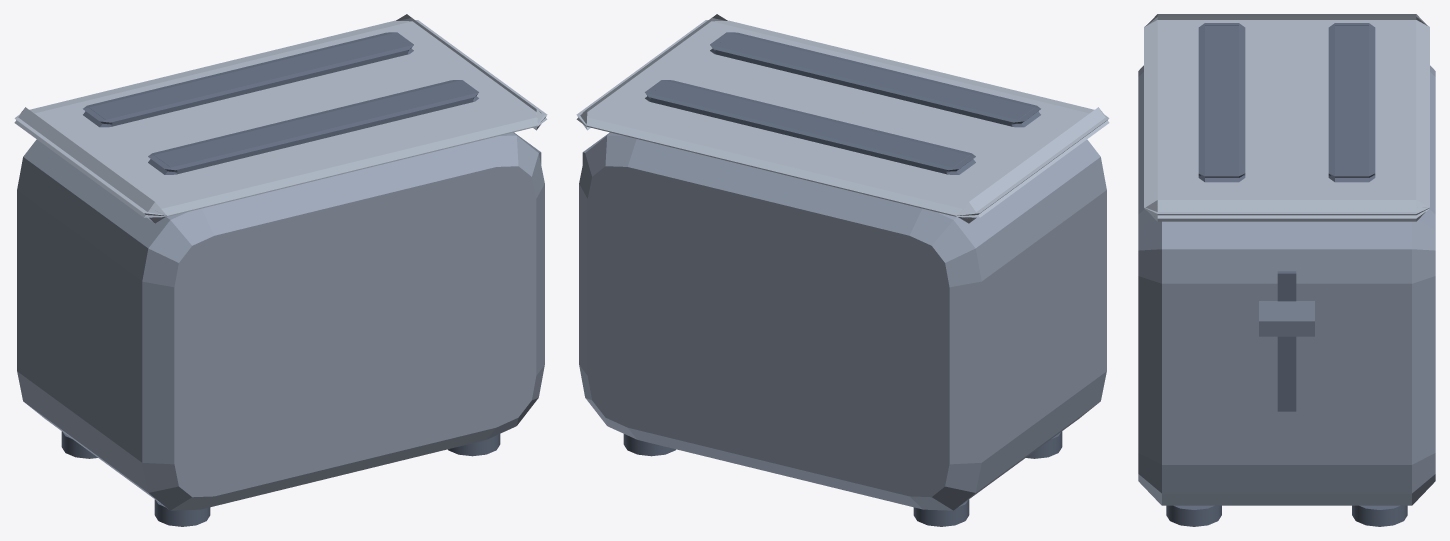
File: toaster-lite.glb
3 views of the same model, side by side, from view 1: azimuth 30°, elevation 25°; view 2: azimuth 150°, elevation 25°; view 3: azimuth 270°, elevation 25° (orthographic).
Visible parts, largest first — view 1: body, soft, dark; view 2: body, soft, dark; view 3: body, soft, dark, accent.
Part boxes in pixels (bbox=[...]): body: bbox=[17, 132, 544, 510]; soft: bbox=[14, 14, 547, 223]; dark: bbox=[61, 32, 500, 526]; body: bbox=[579, 132, 1106, 510]; soft: bbox=[576, 14, 1109, 223]; dark: bbox=[623, 32, 1062, 526]; body: bbox=[1138, 65, 1435, 505]; soft: bbox=[1144, 14, 1429, 221]; dark: bbox=[1166, 23, 1407, 526]; accent: bbox=[1259, 301, 1314, 336].
Bounding box in the file's own units: 0.2783 × 0.2049 × 0.16.
